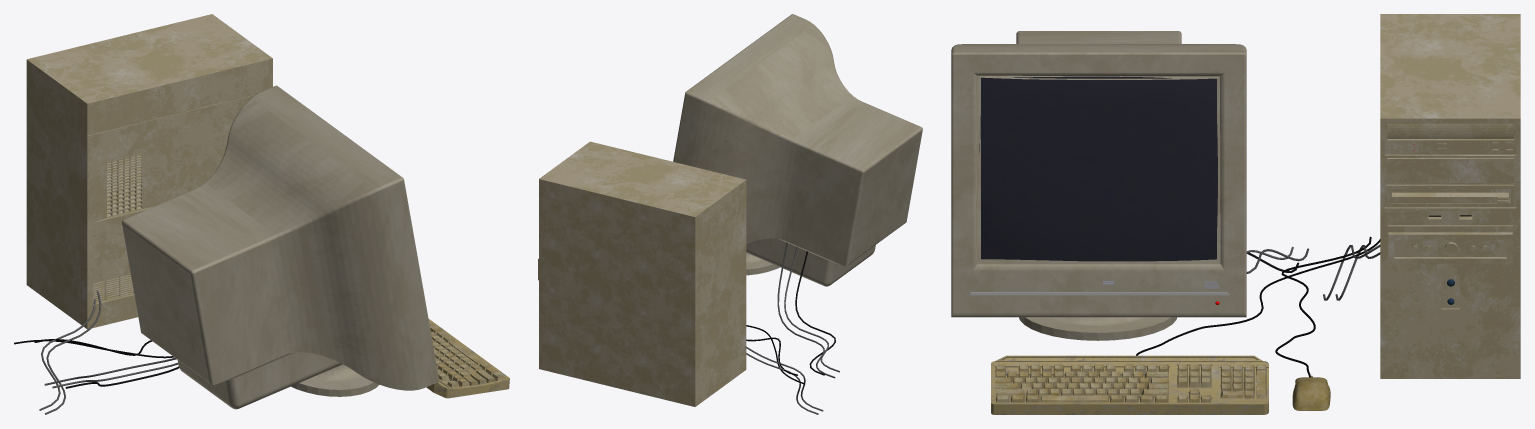
Rendered from pc jadullf_fbx_Collection.fbx.
3 renders of one model, left to right at view 1: azimuth 30°, elevation 25°; view 2: azimuth 150°, elevation 25°; view 3: azimuth 270°, elevation 25°, orthographic. The views are drawn at different scales.
Visible parts, largest first — view 1: Cube.009, Cube.015, Box541, Cube.011; view 2: Cube.015, Cube.009, BezierCurve.007; view 3: Cube.015, Cube.010, Cube.009, Box541, Cube.011, Cube.014, BezierCurve, BezierCurve.001, Text04.001.
Boxes of the visible parts, <box> form: Cube.009: <box>121,85,438,409</box>; Cube.015: <box>26,14,272,329</box>; Box541: <box>429,322,504,387</box>; Cube.011: <box>426,319,509,398</box>; Cube.015: <box>538,141,746,406</box>; Cube.009: <box>673,14,922,286</box>; BezierCurve.007: <box>777,242,835,378</box>; Cube.015: <box>1380,14,1520,378</box>; Cube.010: <box>979,76,1217,261</box>; Cube.009: <box>951,31,1246,340</box>; Box541: <box>995,364,1266,402</box>; Cube.011: <box>991,355,1268,414</box>; Cube.014: <box>1292,375,1330,410</box>; BezierCurve: <box>1136,239,1380,355</box>; BezierCurve.001: <box>1275,236,1371,377</box>; Text04.001: <box>997,366,1264,398</box>.
Size of the model in its own units: 261 by 233 by 340.
